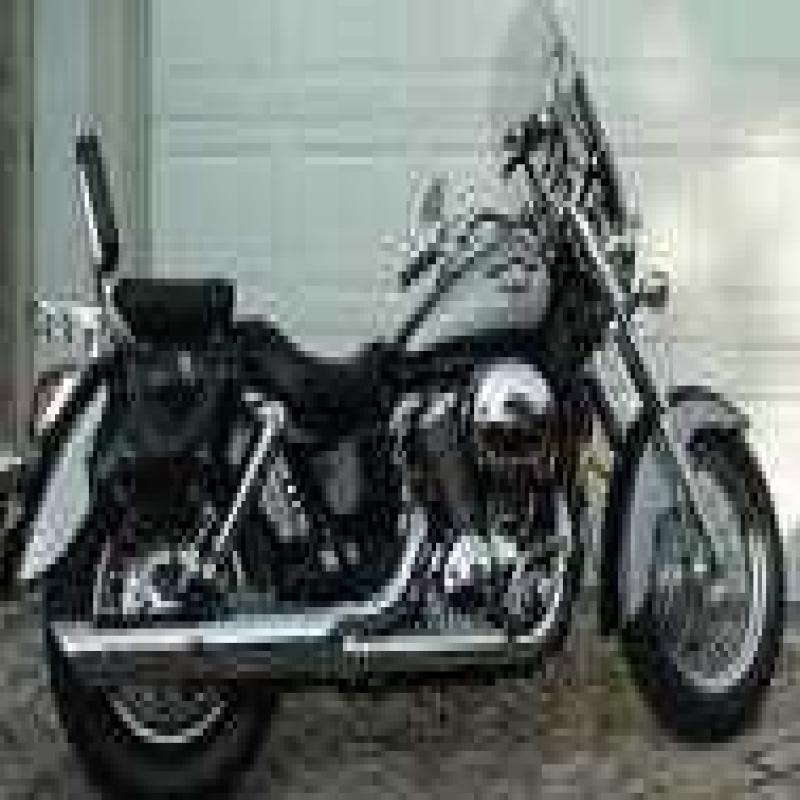bike: (26, 0, 762, 800)
